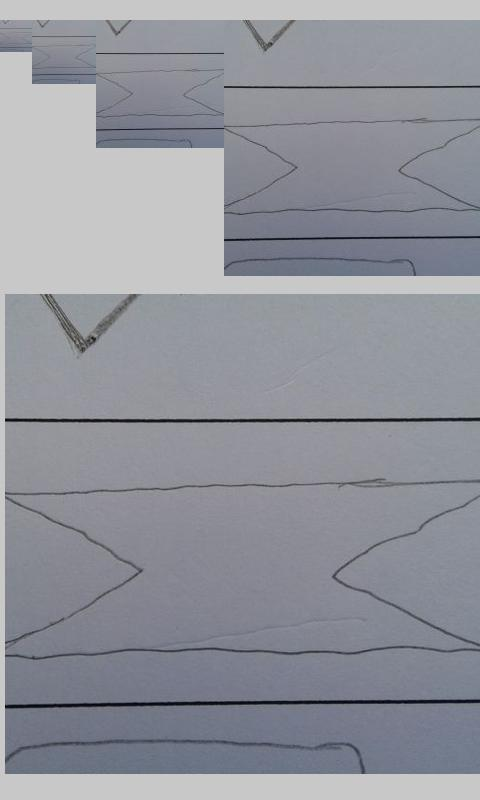edit_text: (7, 476, 479, 659), (224, 117, 480, 215), (96, 69, 224, 117), (32, 44, 96, 70), (1, 31, 31, 45)
